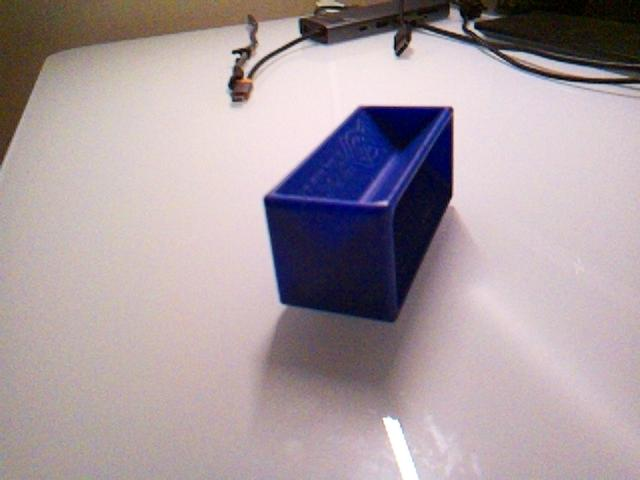blue: (262, 103, 456, 323)
